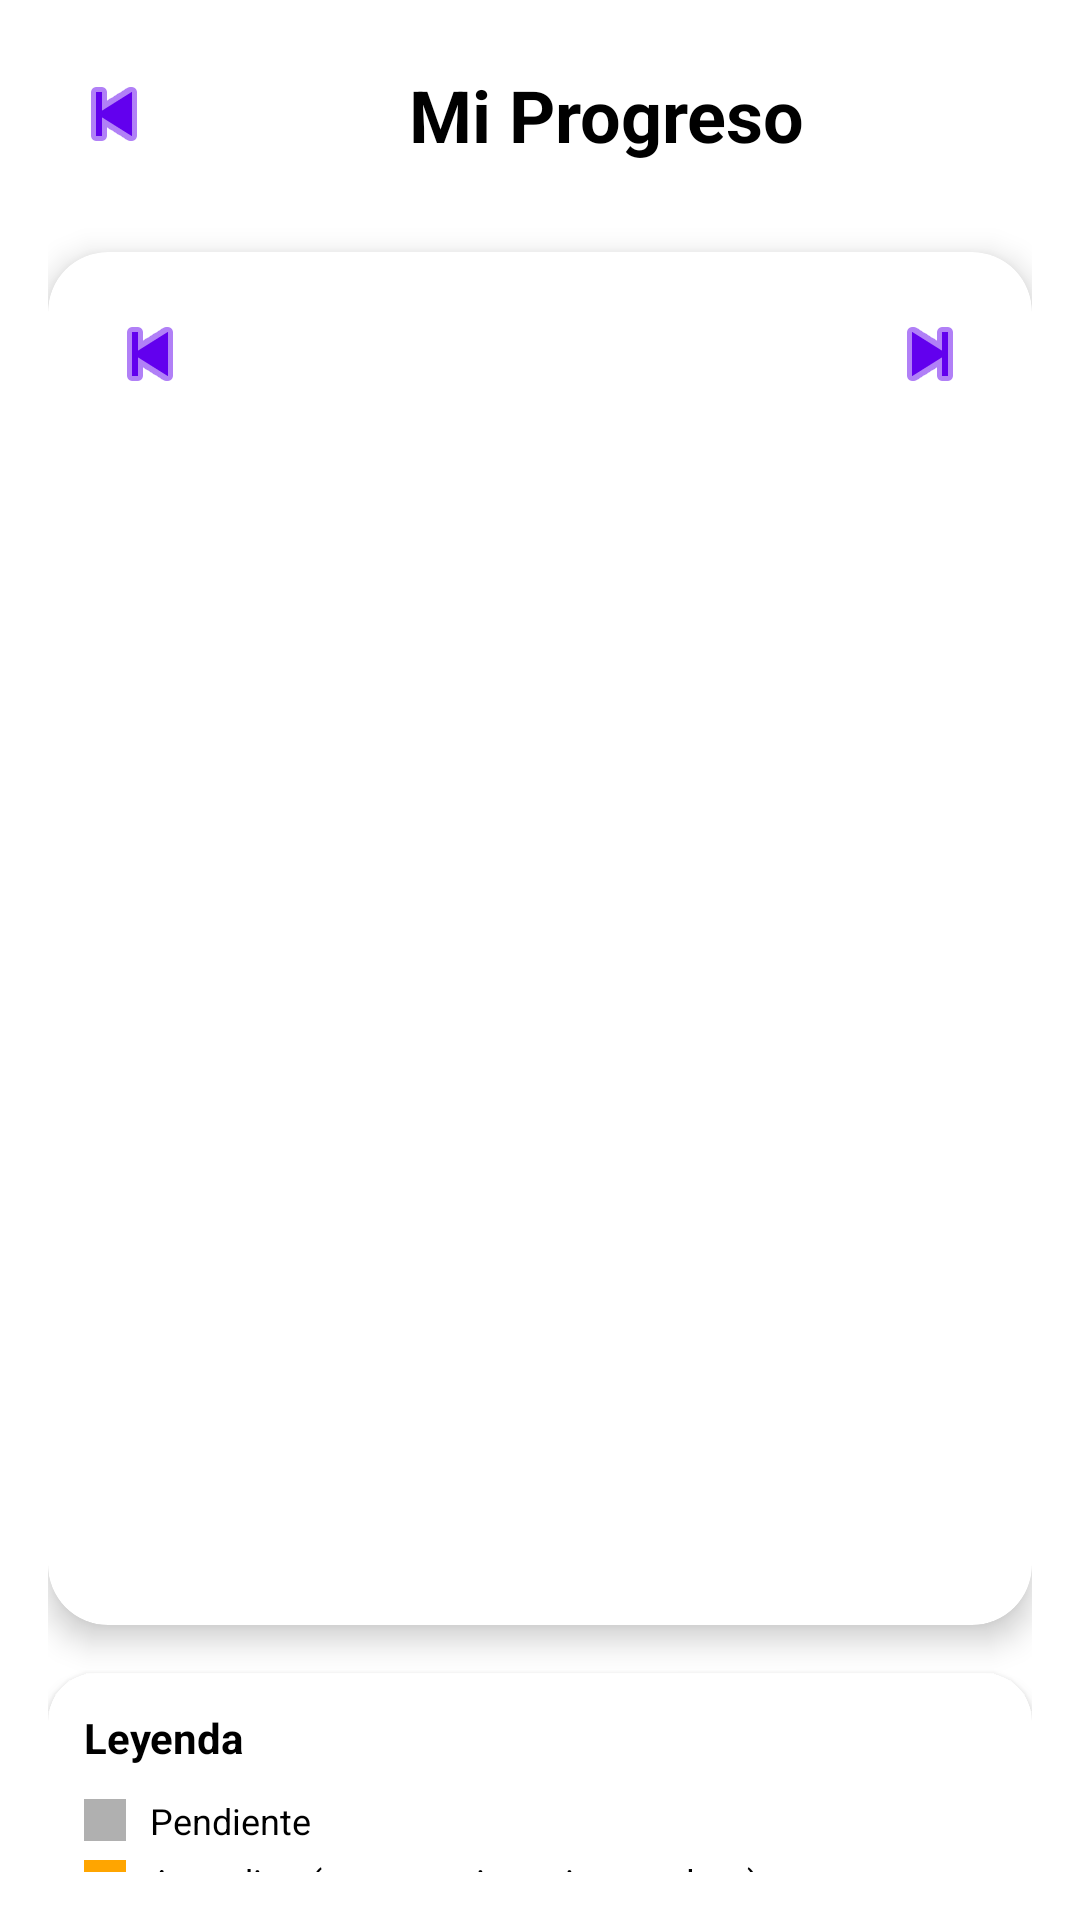

Locate icon controls on the screen. Image size 1080x1920, boxes as (x1, y1, x2, y2).
next: (907, 327, 953, 381)
previous: (127, 327, 173, 381)
Volver: (91, 87, 137, 141)
